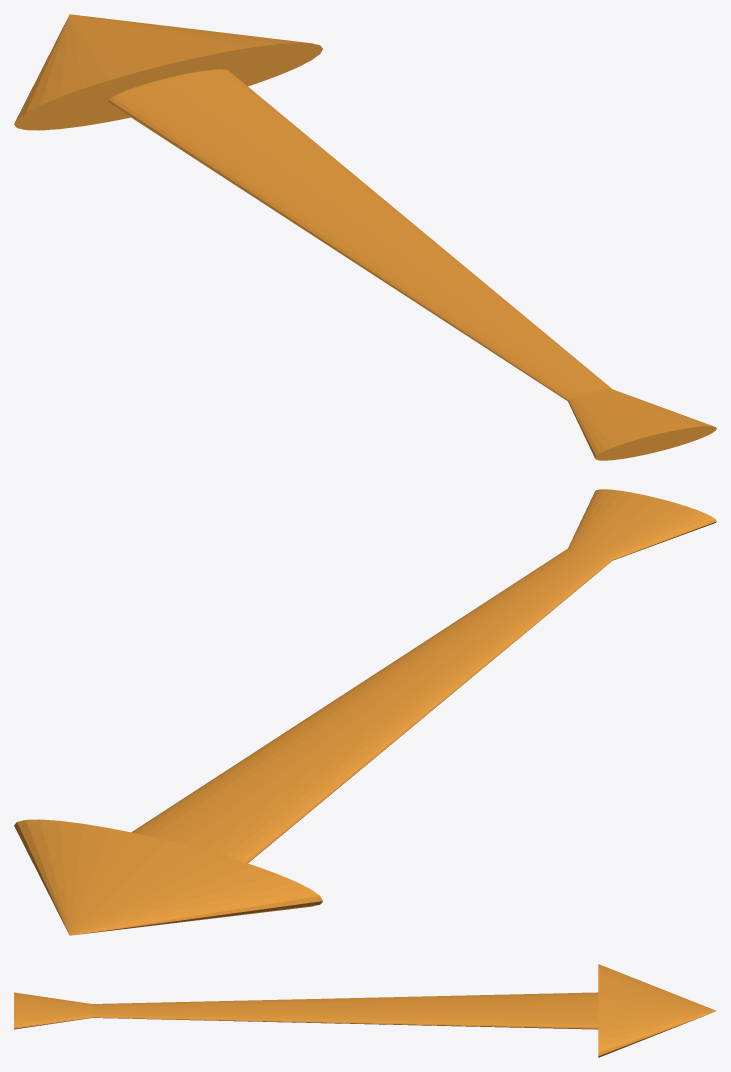
File: ballista_bullet.glb
3 renders of one model, top to bottom at view 1: azimuth 30°, elevation 25°; view 2: azimuth 150°, elevation 25°; view 3: azimuth 270°, elevation 25°, orthographic. The views are drawn at different scales.
Visible parts, largest first — view 1: Cone; view 2: Cone; view 3: Cone.
Part boxes in pixels (left/top/right/bottom): Cone: left=14, top=14, right=716, bottom=460; Cone: left=14, top=489, right=716, bottom=935; Cone: left=14, top=964, right=716, bottom=1057.
Bounding box in the file's own units: 3.61 × 0.5005 × 11.85.
